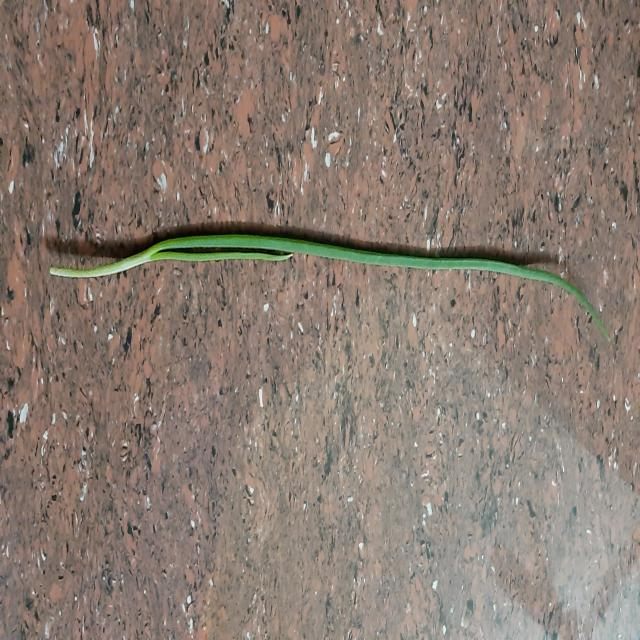onion: (50, 233, 610, 341)
